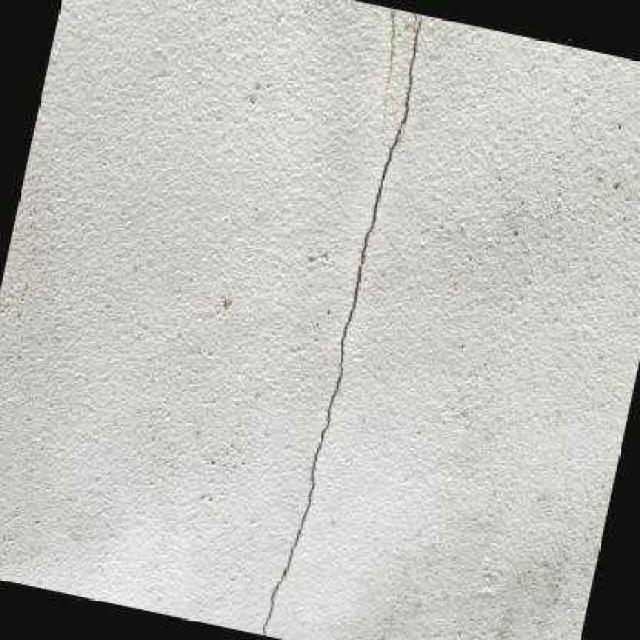D00: (261, 13, 423, 636), (381, 8, 396, 130)
